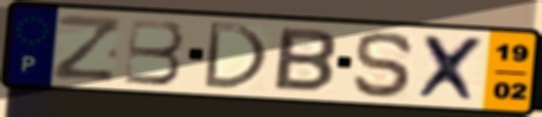B: (270, 25, 340, 95), (121, 17, 186, 87)
D: (199, 20, 272, 92)
S: (351, 29, 418, 100)
X: (414, 32, 491, 105)
Z: (50, 12, 125, 83)
